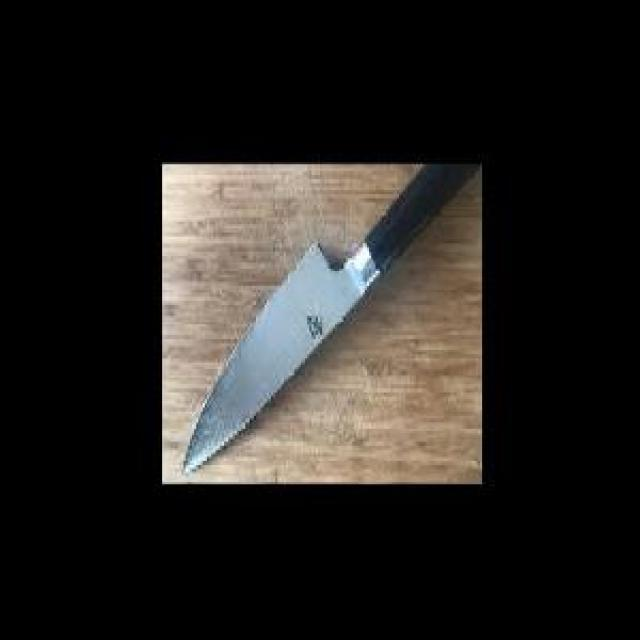knife: (183, 164, 479, 477)
